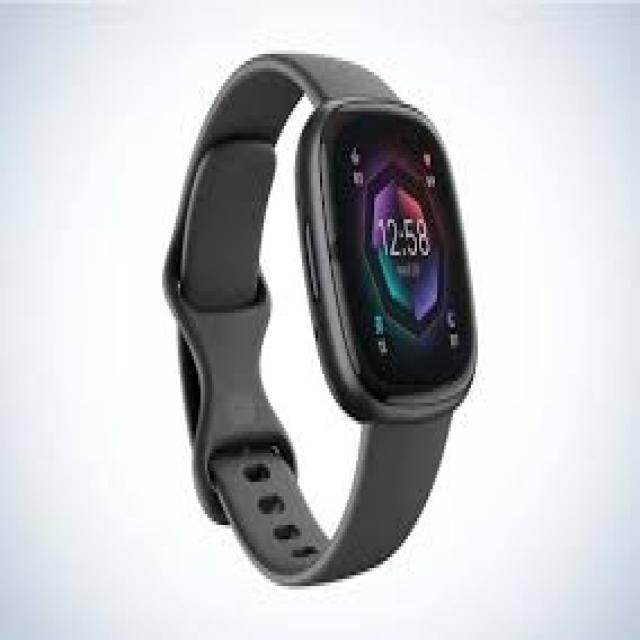objects: (165, 54, 478, 586)
